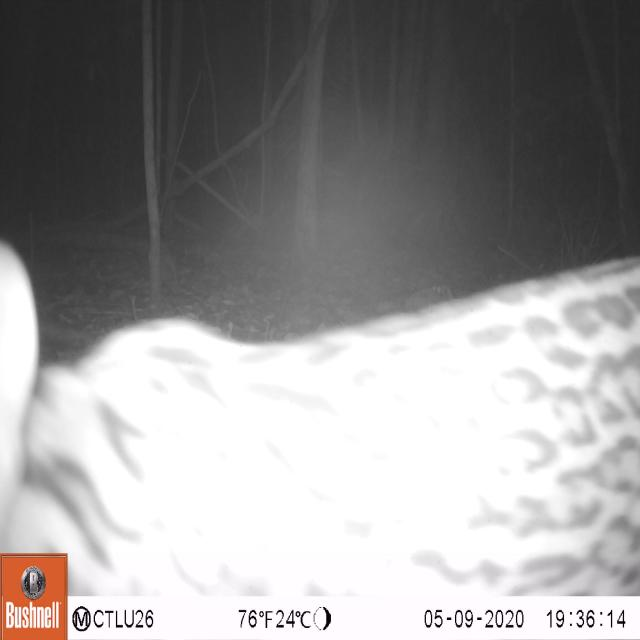Ocelote: (1, 230, 640, 594)
